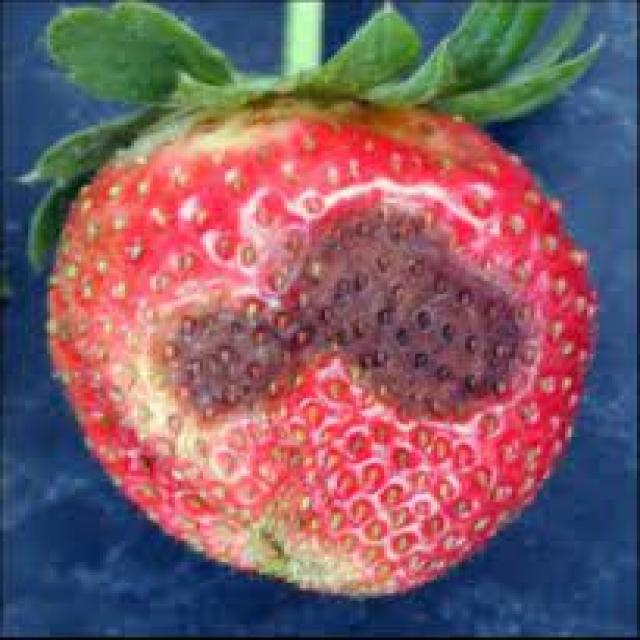Mancha negra Antracnosis: (54, 74, 597, 596)
